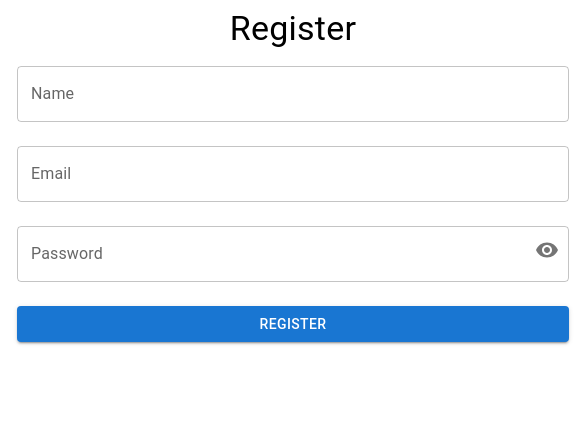
it: RegisterPage › validates form fields
The image size is (587, 431).
Click the button "Register": coordinates (293, 324) left=17, top=306, right=569, bottom=342
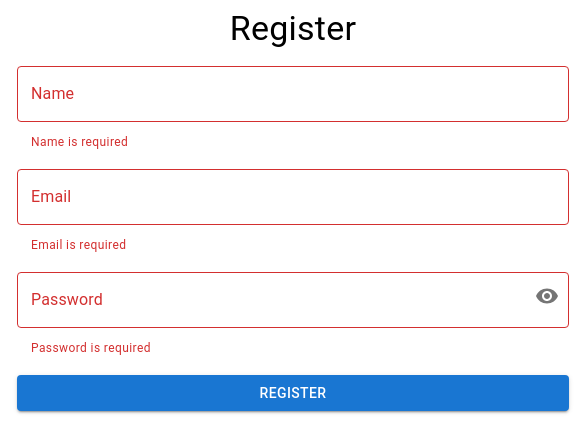
Check: the text "Name is required" is shown, box left=31, top=135, right=128, bottom=149
Check: the text "Email is required" is shown, box left=31, top=238, right=126, bottom=252
Check: the text "Password is required" is shown, box left=31, top=341, right=151, bottom=355
